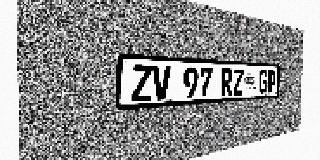7: (198, 67, 212, 98)
9: (183, 67, 198, 99)
G: (259, 70, 268, 94)
P: (267, 70, 276, 93)
R: (221, 68, 233, 96)
V: (152, 66, 171, 101)
Z: (132, 65, 152, 102), (233, 69, 244, 95)
